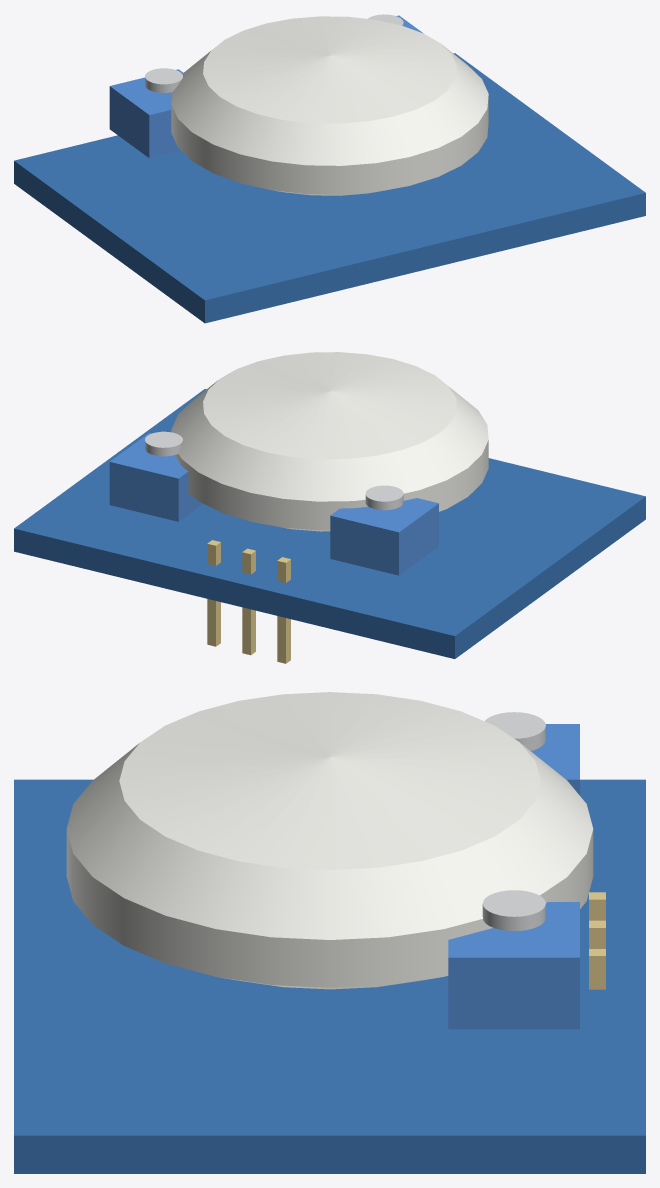
File: pir.glb
The picture shows the model from 3 angles, top to bottom: view 1: azimuth 30°, elevation 25°; view 2: azimuth 150°, elevation 25°; view 3: azimuth 270°, elevation 25°; orthographic projection. The views are drawn at different scales.
Visible parts, largest first — view 1: pcb, fresnel-dome, trimmers; view 2: pcb, fresnel-dome, trimmers, header; view 3: pcb, fresnel-dome, trimmers, header.
Boxes of the visible parts, x1,y1,x2,y2 form: pcb: (14,53,645,323); fresnel-dome: (171,16,488,195); trimmers: (109,14,423,158); pcb: (14,389,645,658); fresnel-dome: (171,352,488,531); trimmers: (109,431,438,575); header: (207,540,290,663); pcb: (14,779,645,1173); fresnel-dome: (66,692,593,989); trimmers: (448,712,579,1029); header: (589,892,605,989).
Size of the model in its own units: 0.032 by 0.014 by 0.024.
